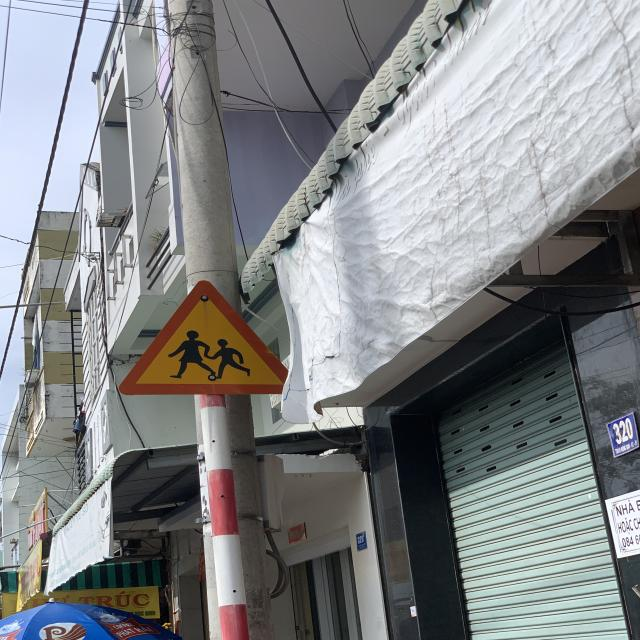Vong_Xuyen: (118, 281, 287, 394)
